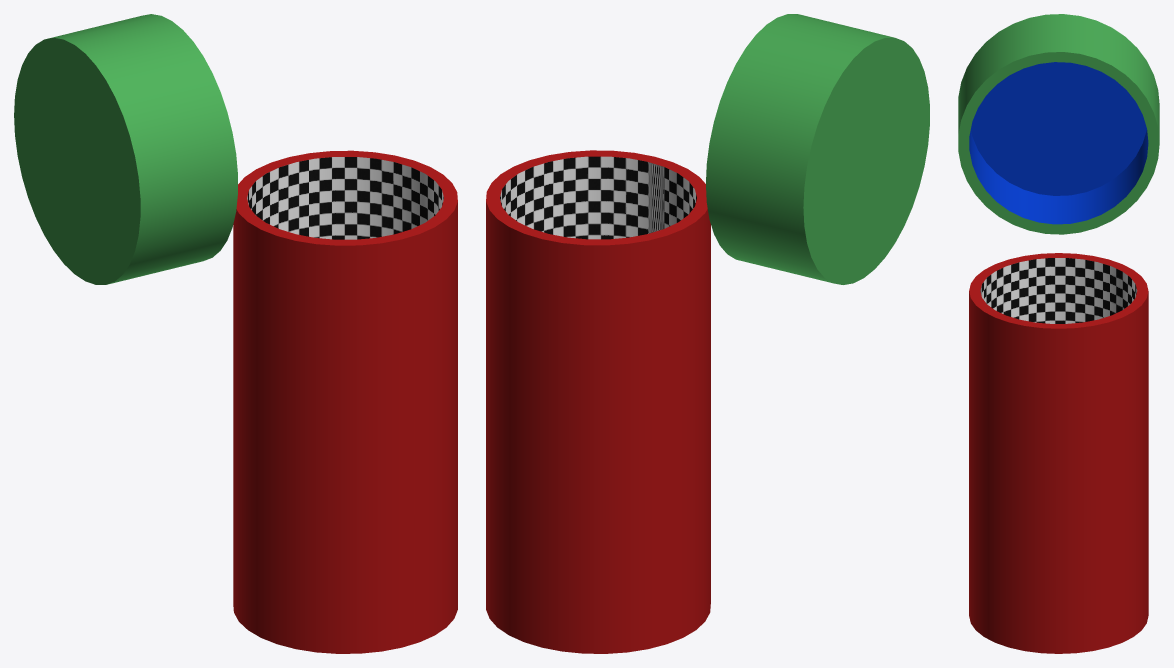
File: Pill_Bottle_3.glb
The picture shows the model from 3 angles, left to right: view 1: azimuth 30°, elevation 25°; view 2: azimuth 150°, elevation 25°; view 3: azimuth 270°, elevation 25°; orthographic projection. The views are drawn at different scales.
Visible parts, largest first — view 1: Part, Part 3, Part 2; view 2: Part, Part 3, Part 2; view 3: Part, Part 4, Part 3, Part 2.
Boxes of the visible parts, x1=… form: Part: x1=233, y1=150, x2=457, y2=653; Part 3: x1=14, y1=14, x2=237, y2=284; Part 2: x1=247, y1=157, x2=443, y2=239; Part: x1=486, y1=150, x2=710, y2=653; Part 3: x1=706, y1=14, x2=929, y2=284; Part 2: x1=500, y1=156, x2=696, y2=239; Part: x1=969, y1=253, x2=1148, y2=653; Part 4: x1=969, y1=62, x2=1148, y2=224; Part 3: x1=958, y1=14, x2=1159, y2=234; Part 2: x1=980, y1=258, x2=1137, y2=323.
Size of the model in its own units: 0.0476 by 0.0778 by 0.0285.
4 materials, 1 textured.
